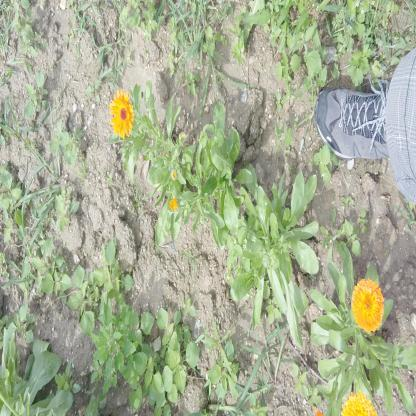marigold: (352, 279, 384, 330), (108, 90, 134, 136)
